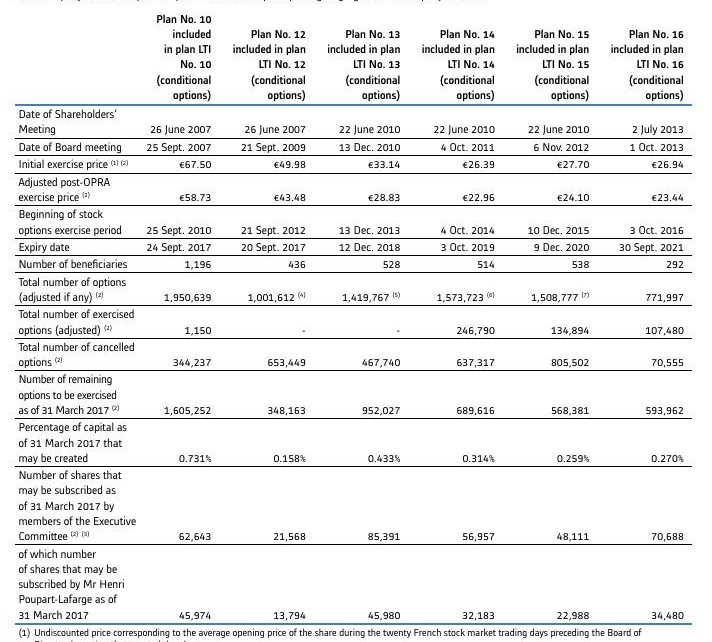table: (0, 0, 712, 642)
